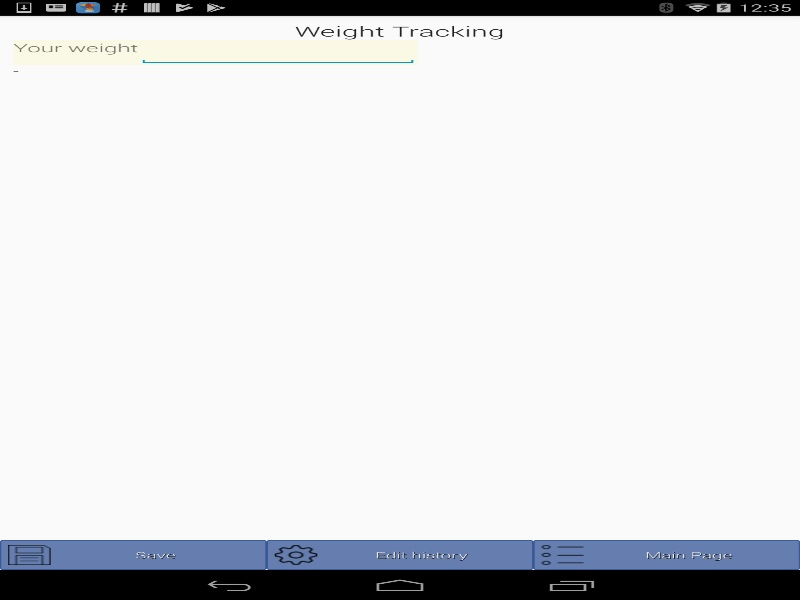Button: (266, 540, 533, 570), (533, 540, 800, 570), (0, 540, 266, 570)
Input: (138, 40, 418, 65)
